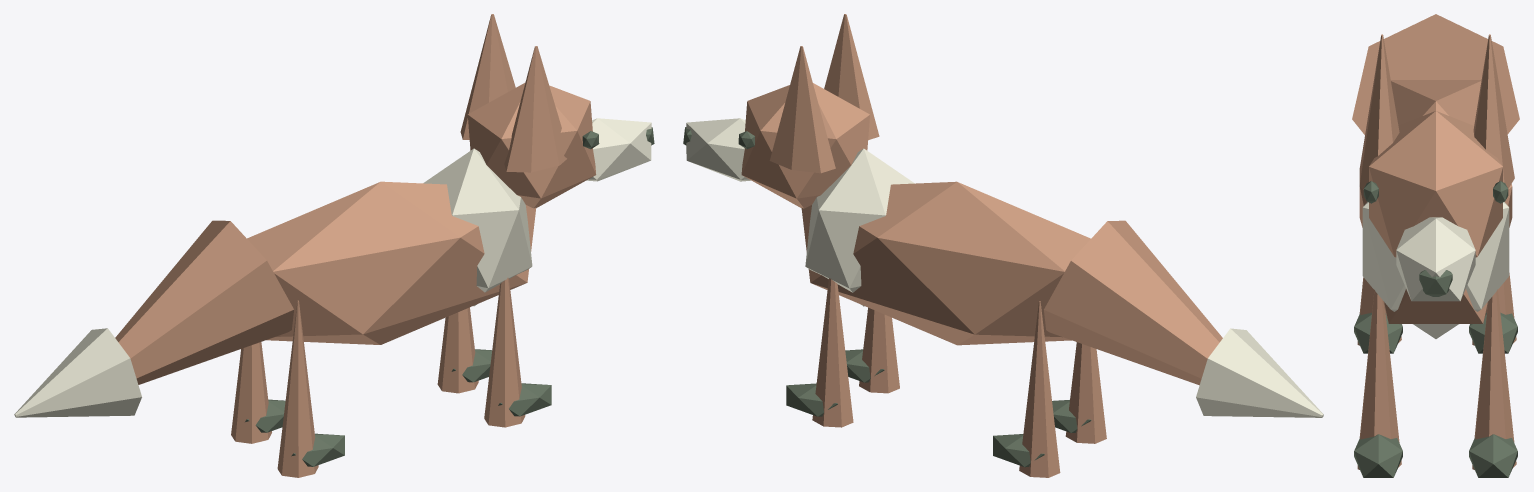
The model's file is fox.glb.
3 views of the same model, side by side, from view 1: azimuth 30°, elevation 25°; view 2: azimuth 150°, elevation 25°; view 3: azimuth 270°, elevation 25° (orthographic). The views are drawn at different scales.
Visible parts, largest first — view 1: body, branch.010, head, chest, branch.011, ear, shin, shin.001, muzzle, shin.002, ear.001, shin.003 (+4 smaller); view 2: body, branch.010, head, chest, branch.011, ear.001, shin.002, shin.003, muzzle, shin, ear, shin.001 (+4 smaller); view 3: head, branch.010, body, chest, muzzle, shin.003, shin.001, ear.001, ear, paw.001, paw.003, paw.002 (+6 smaller).
Part boxes in pixels (x1=…): body: x1=247, y1=181, x2=536, y2=344; branch.010: x1=115, y1=220, x2=294, y2=384; head: x1=467, y1=83, x2=596, y2=208; chest: x1=423, y1=148, x2=532, y2=306; branch.011: x1=14, y1=328, x2=141, y2=417; ear: x1=504, y1=46, x2=566, y2=172; shin: x1=277, y1=300, x2=318, y2=477; shin.001: x1=484, y1=277, x2=525, y2=427; muzzle: x1=586, y1=118, x2=651, y2=181; shin.002: x1=231, y1=342, x2=271, y2=443; ear.001: x1=460, y1=14, x2=515, y2=139; shin.003: x1=437, y1=307, x2=478, y2=393; body: x1=801, y1=181, x2=1090, y2=345; branch.010: x1=1044, y1=220, x2=1222, y2=385; head: x1=741, y1=83, x2=869, y2=208; chest: x1=805, y1=148, x2=914, y2=306; branch.011: x1=1196, y1=328, x2=1323, y2=417; ear.001: x1=769, y1=46, x2=835, y2=173; shin.002: x1=1019, y1=301, x2=1060, y2=477; shin.003: x1=812, y1=278, x2=853, y2=427; muzzle: x1=686, y1=118, x2=750, y2=181; shin: x1=1065, y1=342, x2=1106, y2=443; ear: x1=824, y1=14, x2=879, y2=139; shin.001: x1=859, y1=307, x2=899, y2=393; head: x1=1369, y1=111, x2=1502, y2=257; branch.010: x1=1352, y1=14, x2=1519, y2=134; body: x1=1359, y1=80, x2=1512, y2=323; chest: x1=1362, y1=202, x2=1509, y2=338; muzzle: x1=1396, y1=217, x2=1475, y2=301; shin.003: x1=1472, y1=289, x2=1516, y2=469; shin.001: x1=1357, y1=289, x2=1401, y2=469; ear.001: x1=1473, y1=34, x2=1514, y2=188; ear: x1=1359, y1=34, x2=1399, y2=188; paw.001: x1=1354, y1=434, x2=1402, y2=477; paw.003: x1=1469, y1=434, x2=1517, y2=477; paw.002: x1=1469, y1=312, x2=1517, y2=353.
Size of the model in its own units: 2.53 by 1.38 by 0.468.
